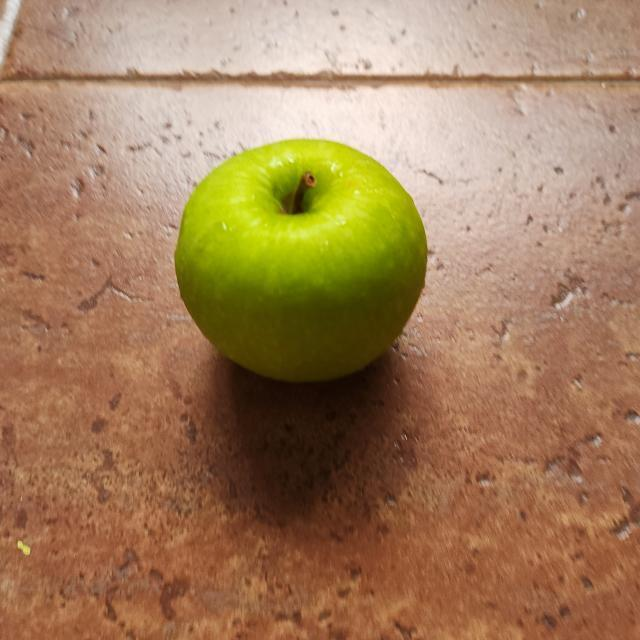apple: (171, 130, 434, 394)
